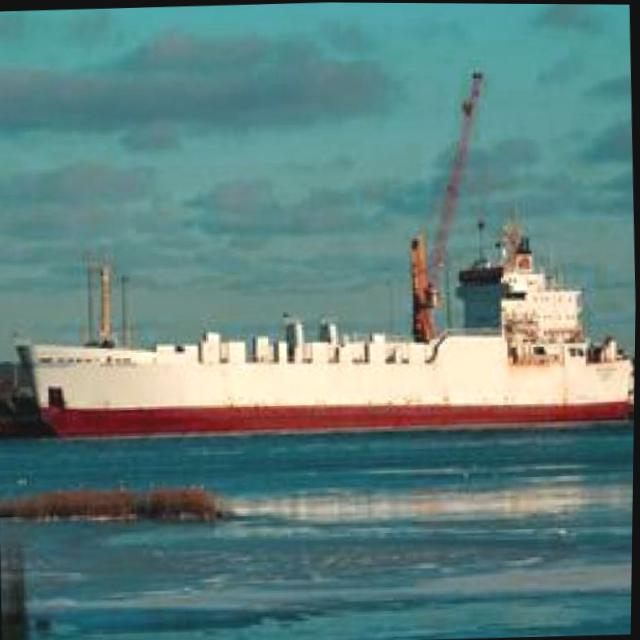ship2: (26, 219, 636, 439)
